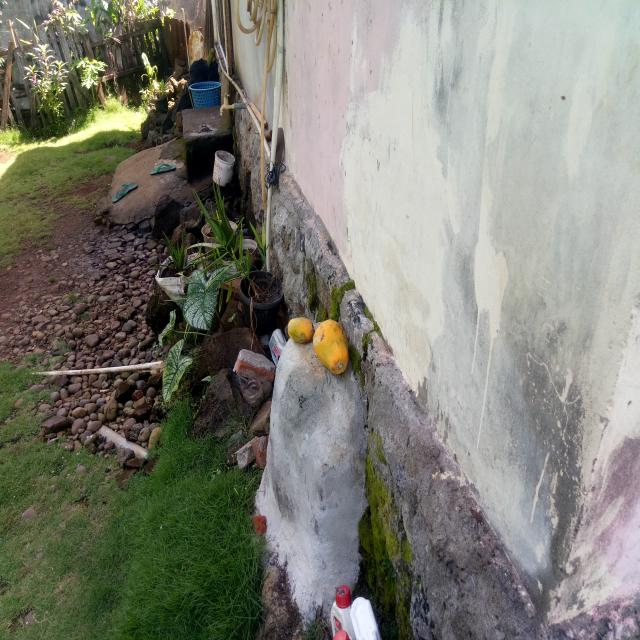Pepaya rippen: (310, 318, 349, 371), (282, 308, 308, 342)
